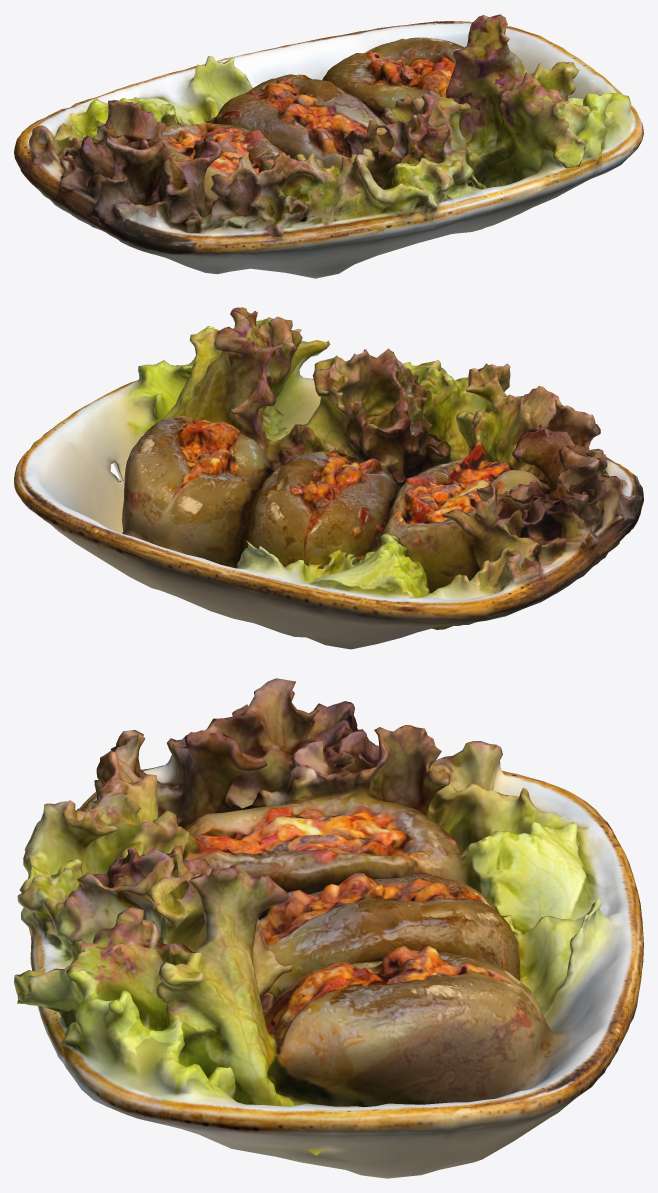
Rendered from Makdus Breakfast.glb.
3 views of the same model, one above another, from view 1: azimuth 30°, elevation 25°; view 2: azimuth 150°, elevation 25°; view 3: azimuth 270°, elevation 25° (orthographic). The views are drawn at different scales.
Parts seen in each view (by area): view 1: ObjectCapture; view 2: ObjectCapture; view 3: ObjectCapture.
Part boxes in pixels (left/top/right/bottom): ObjectCapture: left=14, top=14, right=643, bottom=278; ObjectCapture: left=14, top=307, right=643, bottom=649; ObjectCapture: left=14, top=678, right=643, bottom=1178.
Bounding box in the file's own units: 0.1839 × 0.0766 × 0.1346.
1 material, 1 textured.
